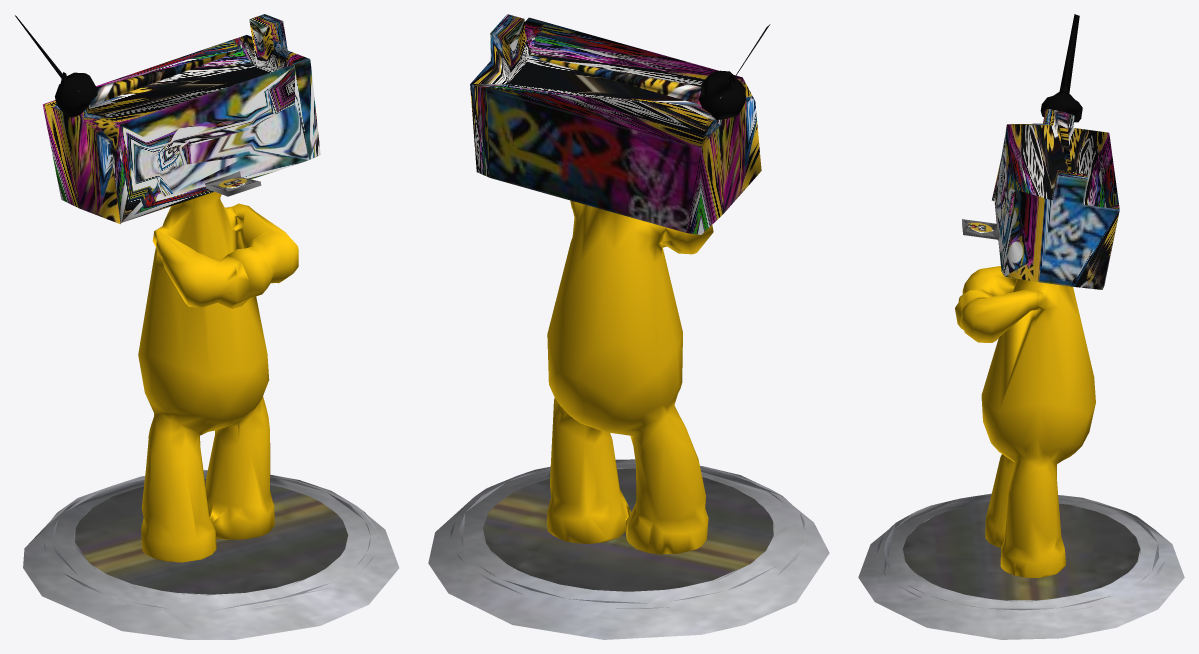
3 views of the same model, side by side, from view 1: azimuth 30°, elevation 25°; view 2: azimuth 150°, elevation 25°; view 3: azimuth 270°, elevation 25° (orthographic). The views are drawn at different scales.
Bounding box in the file's own units: 1.44 × 2.37 × 1.44.
Materials: 9 (4 with a texture image).
